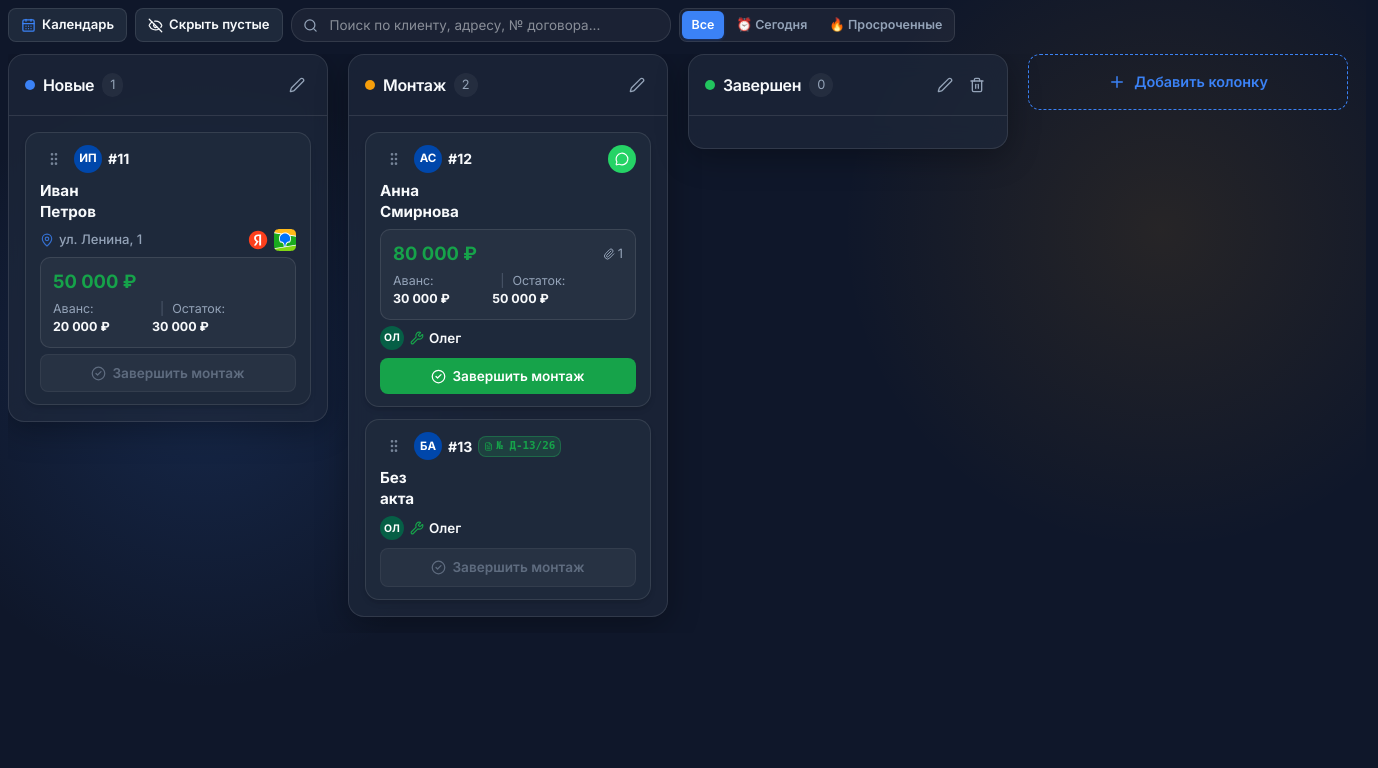
Scenario: Kanban board › filters cards by search and shows found / total per column
Expected: the heading "Новые" is shown, x1=43 y1=73 x2=94 y2=97
Step 1. Type "анна" into the field with placeholder "Поиск по клиенту, адресу, № договора..." → (481, 25), box x1=291 y1=8 x2=671 y2=42
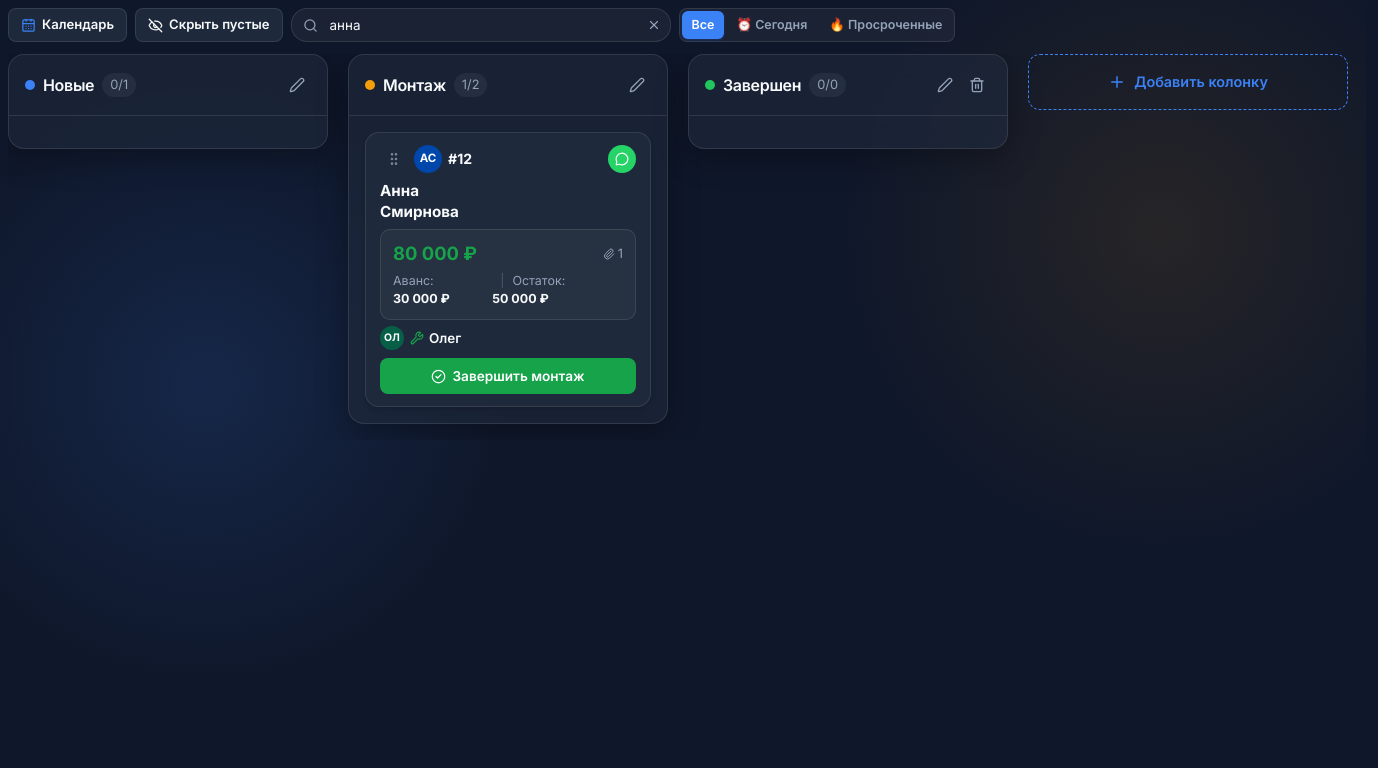
Result: the text "1/2" is shown at x1=454 y1=73 x2=488 y2=97
